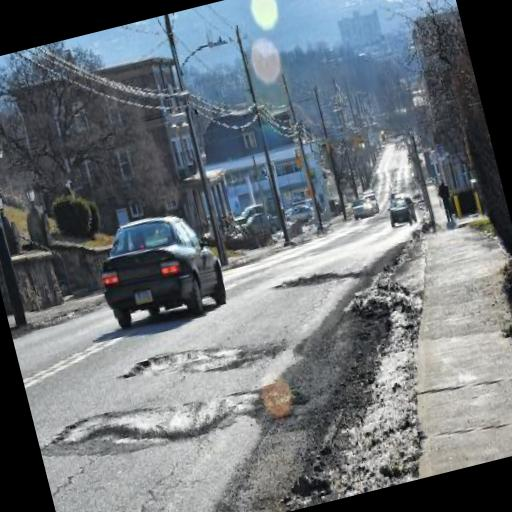pothole: (38, 378, 235, 472), (115, 332, 251, 398), (270, 265, 344, 296)
